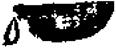Basket: (1, 1, 115, 47)
